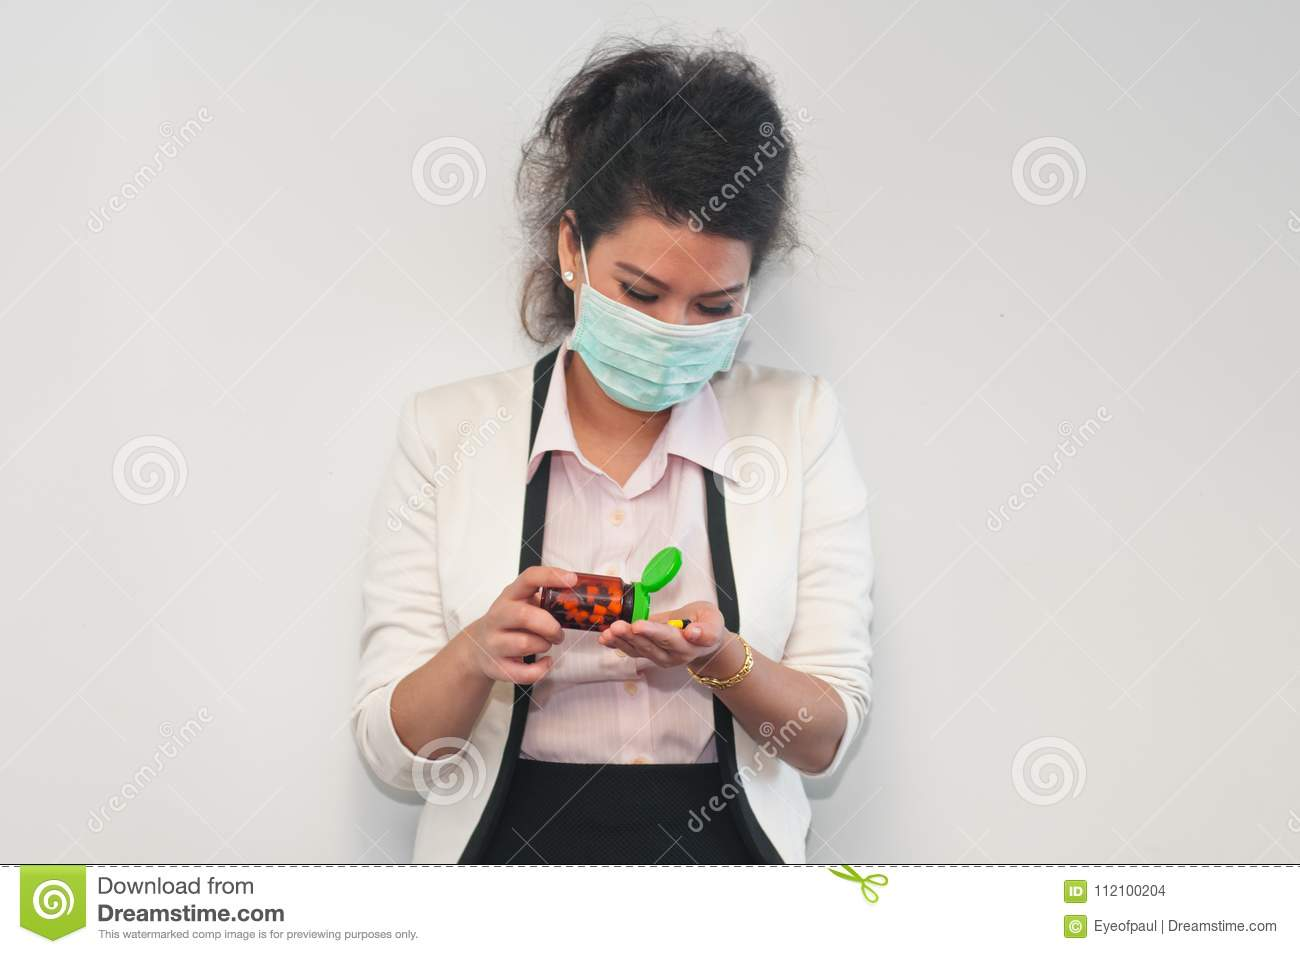mask: (566, 289, 745, 415)
